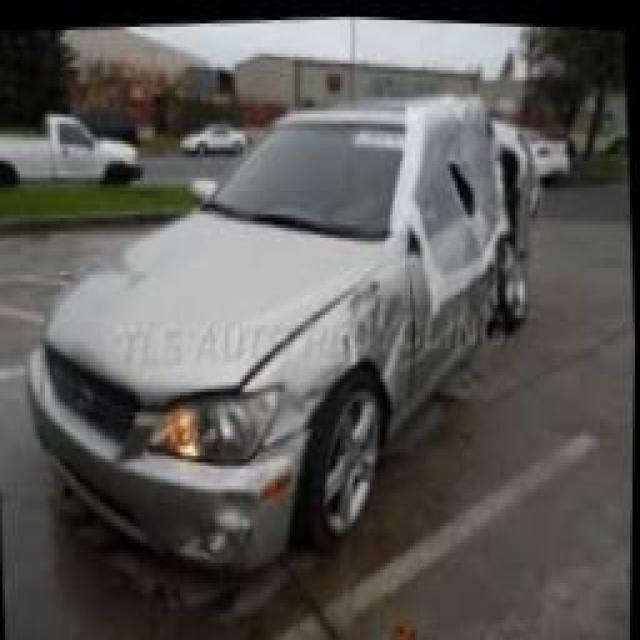Bumper: (132, 436, 317, 567)
Door: (399, 101, 501, 387)
Fender: (249, 237, 433, 453), (495, 109, 553, 249)
